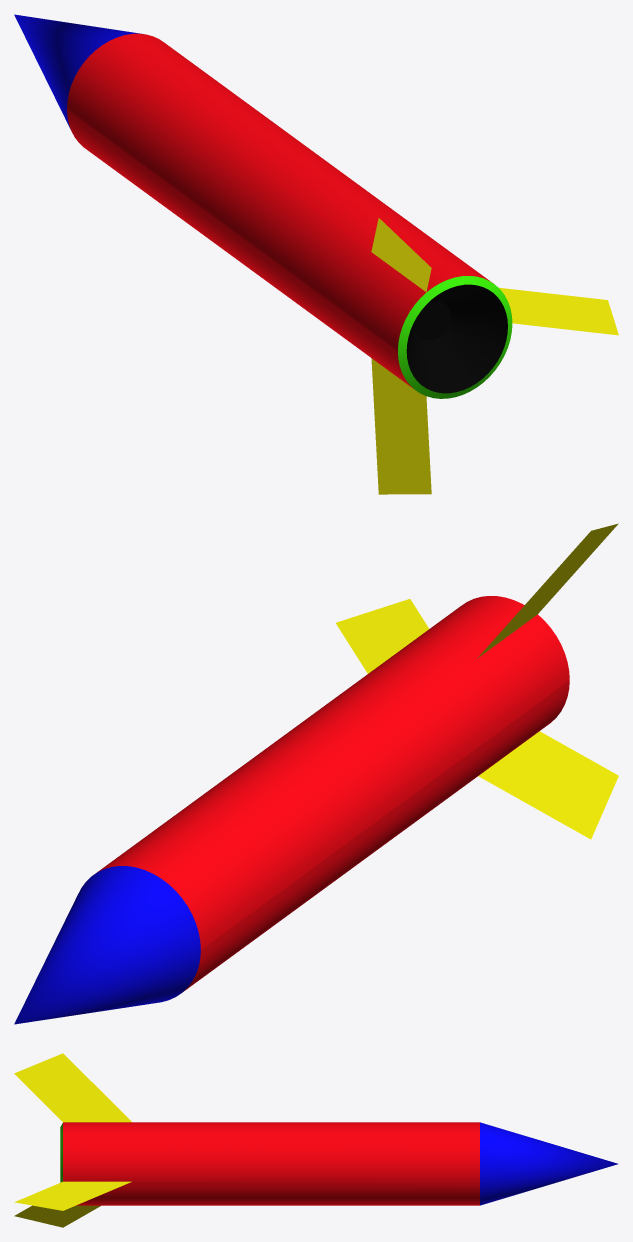
Rendered from Missile.fbx.
3 renders of one model, top to bottom at view 1: azimuth 30°, elevation 25°; view 2: azimuth 150°, elevation 25°; view 3: azimuth 270°, elevation 25°, orthographic. The views are drawn at different scales.
Visible parts, largest first — view 1: Model; view 2: Model; view 3: Model.
Part boxes in pixels (left/top/right/bottom): Model: left=14, top=14, right=618, bottom=494; Model: left=14, top=523, right=618, bottom=1024; Model: left=14, top=1053, right=617, bottom=1227.
Bounding box in the file's own units: 0.6 × 0.6928 × 2.18.
